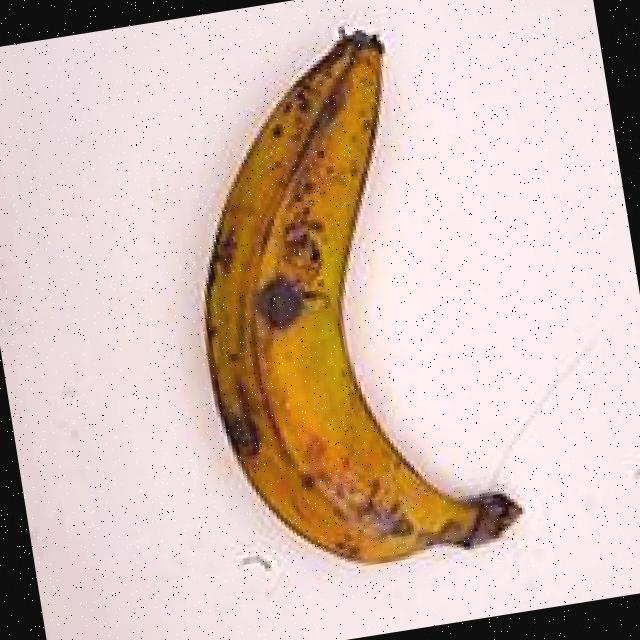Overripe: (106, 0, 573, 627)
